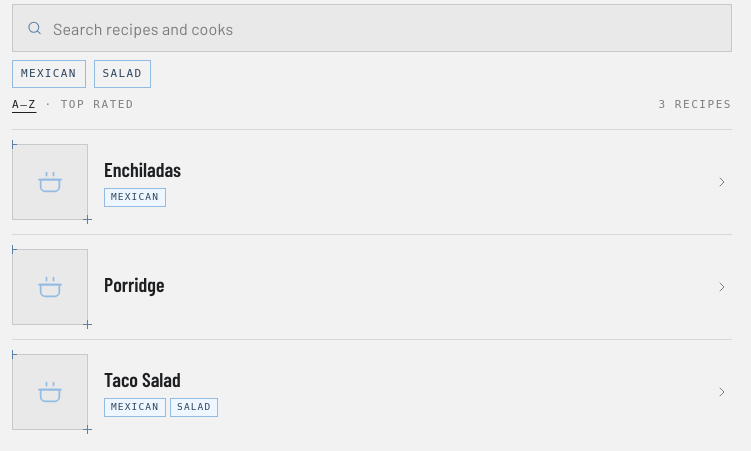
Test: RecipeTable › tags › leaves tags to their own buttons rather than the search box
This screenshot has width=751, height=451.
Type "mexican" into the search field named "Filter recipes" at [372, 28], box [12, 4, 732, 52]
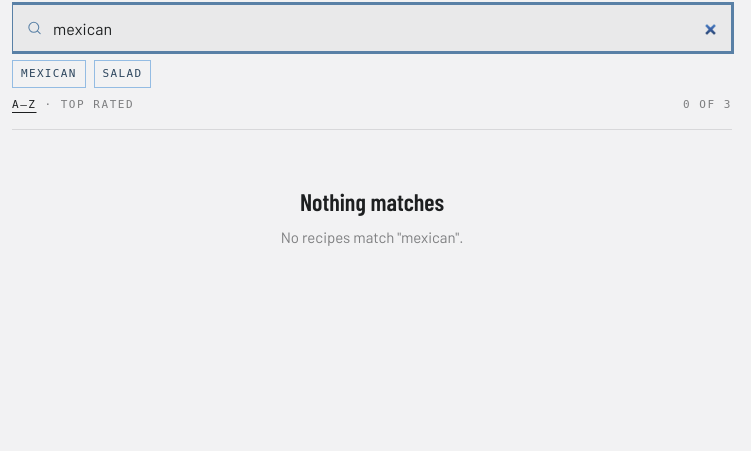
Expected: the text "No recipes match \"mexican\"." is shown, [281, 228, 463, 246]
